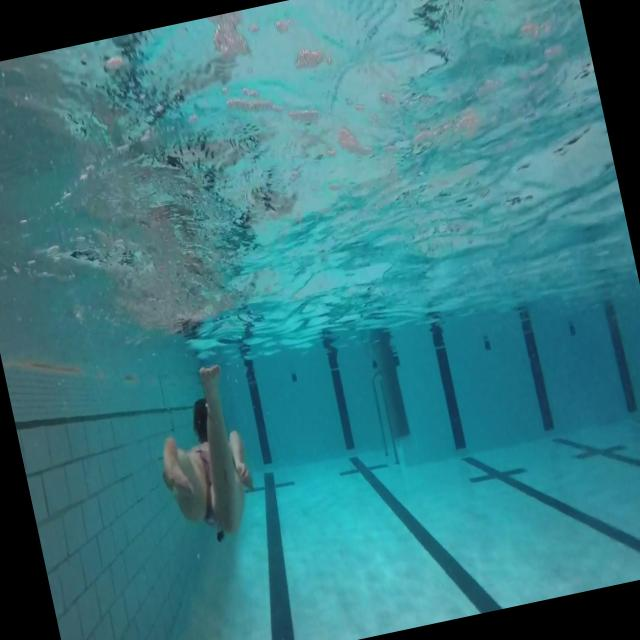human: (141, 359, 264, 550)
